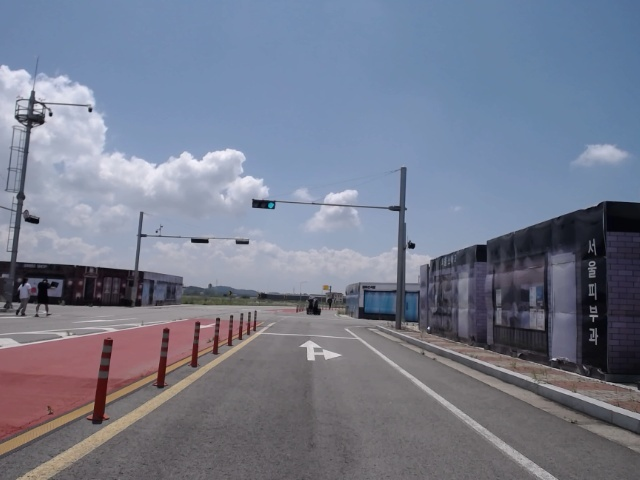green_3: (252, 200, 274, 208)
